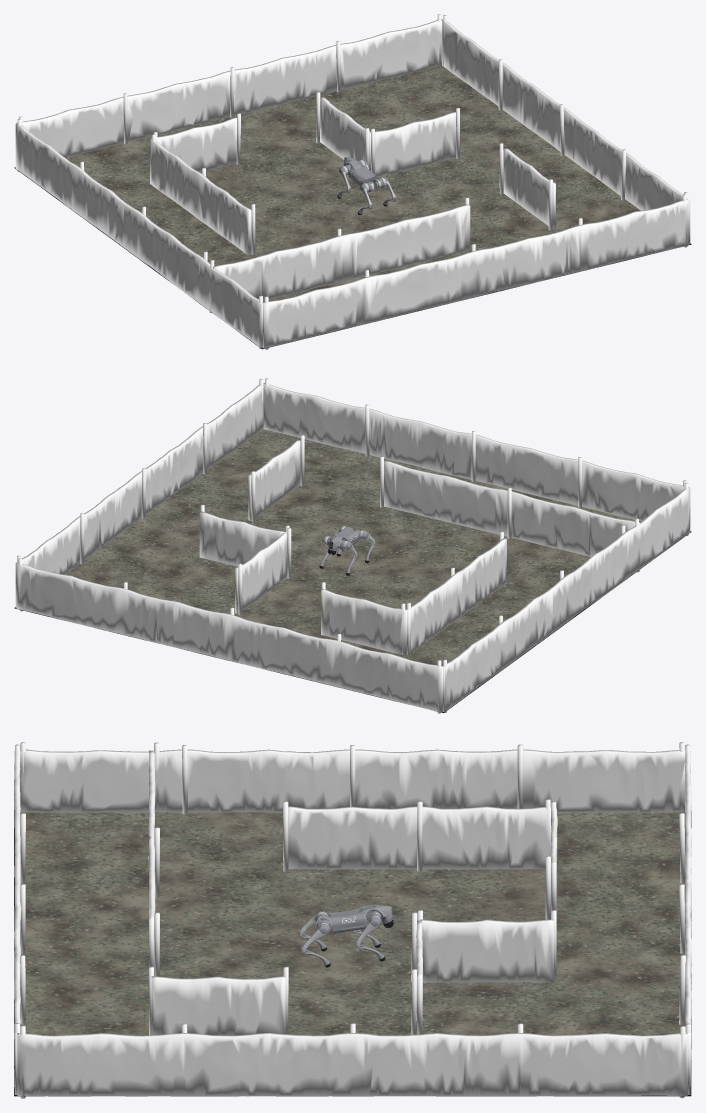
3 views of the same model, one above another, from view 1: azimuth 30°, elevation 25°; view 2: azimuth 150°, elevation 25°; view 3: azimuth 270°, elevation 25° (orthographic). The views are drawn at different scales.
Visible parts, largest first — view 1: Web_Ground, Wall_00, Wall_01, Wall_03, Wall_09, Wall_02, Wall_04, Wall_07, Wall_05, Wall_08, Wall_06, go2_base; view 2: Web_Ground, Wall_01, Wall_00, Wall_03, Wall_09, Wall_02, Wall_04, Wall_05, Wall_07, Wall_06, Wall_08; view 3: Web_Ground, Wall_02, Wall_03, Wall_04, Wall_06, Wall_08, Wall_00, Wall_01, Wall_09, go2_base, Wall_07, Wall_05.
Boxes of the visible parts, left/top/right/bottom form: Web_Ground: left=14, top=65, right=691, bottom=349; Wall_00: left=262, top=199, right=689, bottom=348; Wall_01: left=16, top=19, right=443, bottom=157; Wall_03: left=15, top=123, right=263, bottom=348; Wall_09: left=213, top=204, right=470, bottom=300; Wall_02: left=441, top=20, right=690, bottom=243; Wall_04: left=150, top=139, right=251, bottom=255; Wall_07: left=370, top=112, right=456, bottom=176; Wall_05: left=150, top=117, right=236, bottom=172; Wall_08: left=503, top=148, right=555, bottom=228; Wall_06: left=320, top=97, right=370, bottom=170; go2_base: left=343, top=157, right=378, bottom=186; Web_Ground: left=14, top=429, right=691, bottom=712; Wall_01: left=16, top=563, right=443, bottom=712; Wall_00: left=263, top=383, right=689, bottom=521; Wall_03: left=441, top=487, right=690, bottom=711; Wall_09: left=384, top=460, right=640, bottom=556; Wall_02: left=15, top=383, right=264, bottom=607; Wall_04: left=405, top=538, right=506, bottom=655; Wall_05: left=321, top=589, right=407, bottom=655; Wall_07: left=199, top=511, right=286, bottom=566; Wall_06: left=235, top=532, right=287, bottom=613; Wall_08: left=248, top=440, right=300, bottom=520; Web_Ground: left=14, top=810, right=691, bottom=1096; Wall_02: left=17, top=1033, right=687, bottom=1096; Wall_03: left=20, top=749, right=685, bottom=812; Wall_04: left=288, top=806, right=551, bottom=869; Wall_06: left=420, top=919, right=553, bottom=982; Wall_08: left=151, top=976, right=285, bottom=1035; Wall_00: left=14, top=751, right=21, bottom=1094; Wall_01: left=685, top=751, right=691, bottom=1094; Wall_09: left=148, top=750, right=155, bottom=975; go2_base: left=330, top=904, right=393, bottom=934; Wall_07: left=416, top=920, right=422, bottom=1034; Wall_05: left=550, top=807, right=557, bottom=919.
Bounding box in the file's own units: 5.06 × 0.5808 × 5.05.
Materials: 7 (1 with a texture image).
